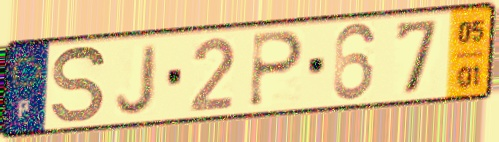2: (187, 35, 237, 115)
6: (331, 21, 378, 105)
7: (392, 18, 445, 97)
J: (113, 41, 161, 117)
P: (246, 28, 307, 109)
S: (49, 43, 109, 127)
